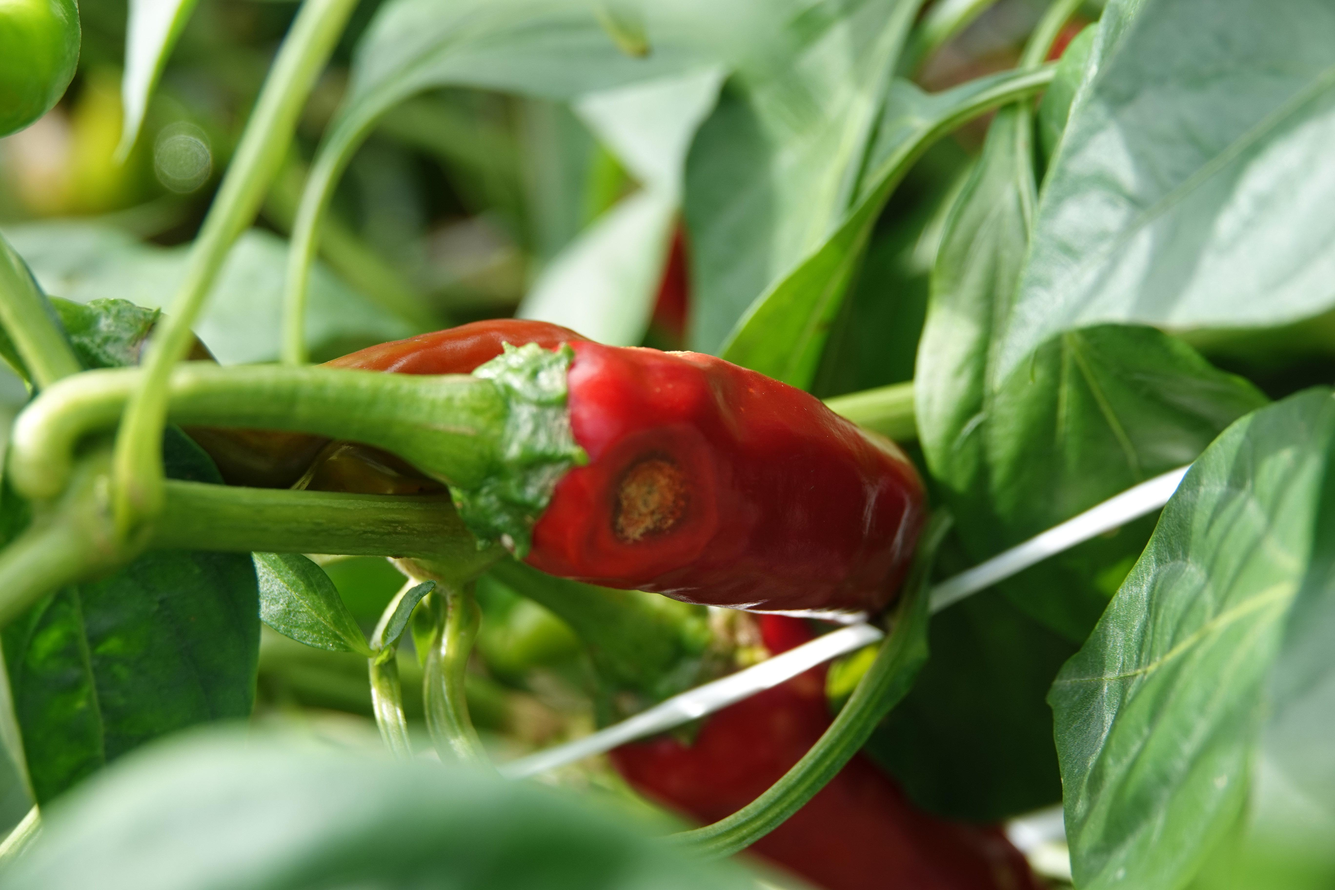Busuk Buah Antraknosa: (435, 314, 931, 622)
